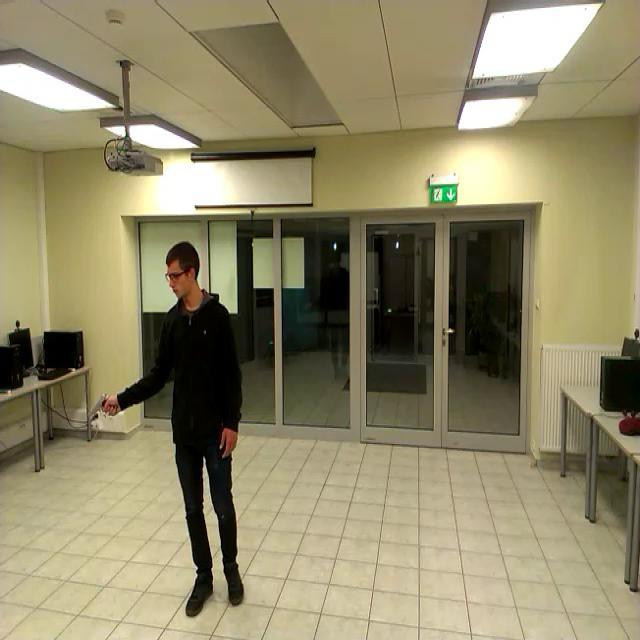Gun: (90, 392, 116, 413)
